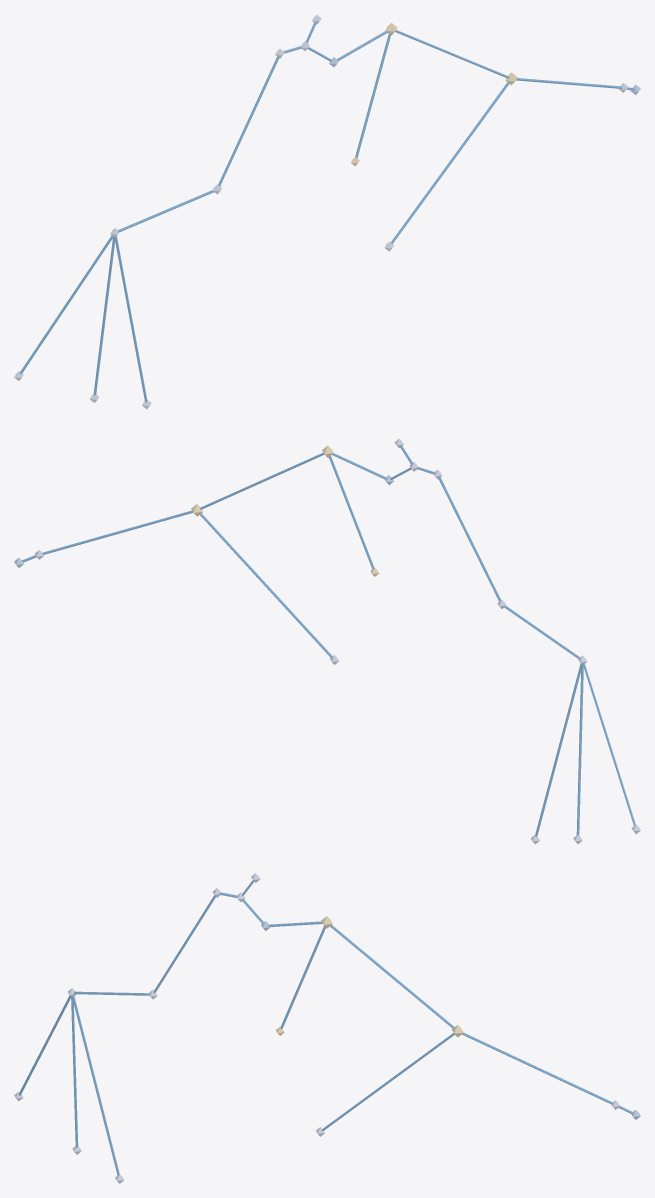
The model's file is constellation-aqr.glb.
3 views of the same model, one above another, from view 1: azimuth 30°, elevation 25°; view 2: azimuth 150°, elevation 25°; view 3: azimuth 330°, elevation 25° (orthographic). The views are drawn at different scales.
Bounding box in the file's own units: 4.39 × 2.43 × 0.5766.
